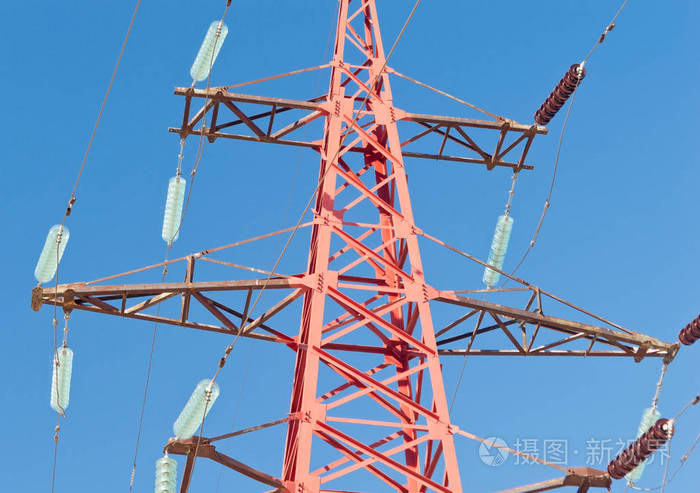insulator: (607, 418, 675, 475), (534, 66, 584, 123), (174, 378, 221, 437), (32, 223, 69, 284), (482, 218, 512, 285), (190, 22, 224, 81), (159, 175, 185, 242), (49, 344, 72, 415), (151, 454, 180, 493), (679, 313, 700, 349)
